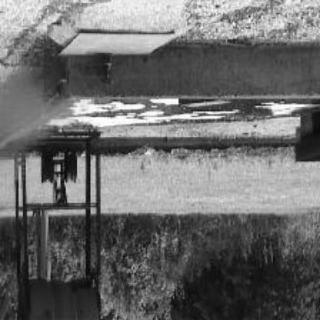Smoke: (2, 79, 52, 145)
